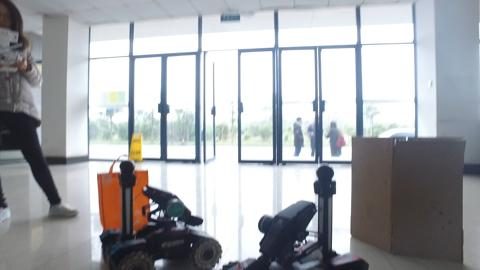box: (349, 132, 466, 250)
chariot: (240, 164, 368, 268), (100, 159, 220, 268)
